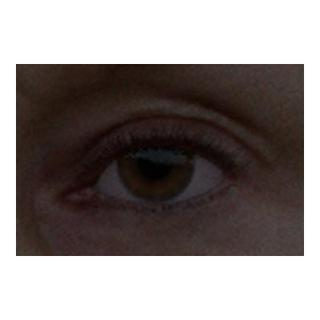pupil: (138, 147, 171, 180)
